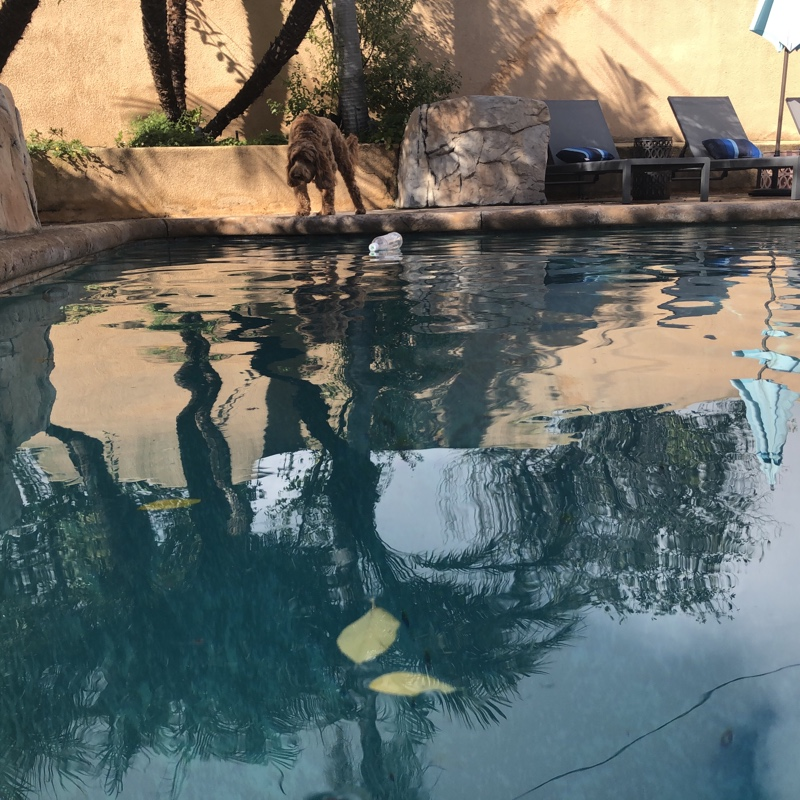Plastic Bottle: (369, 230, 406, 256)
